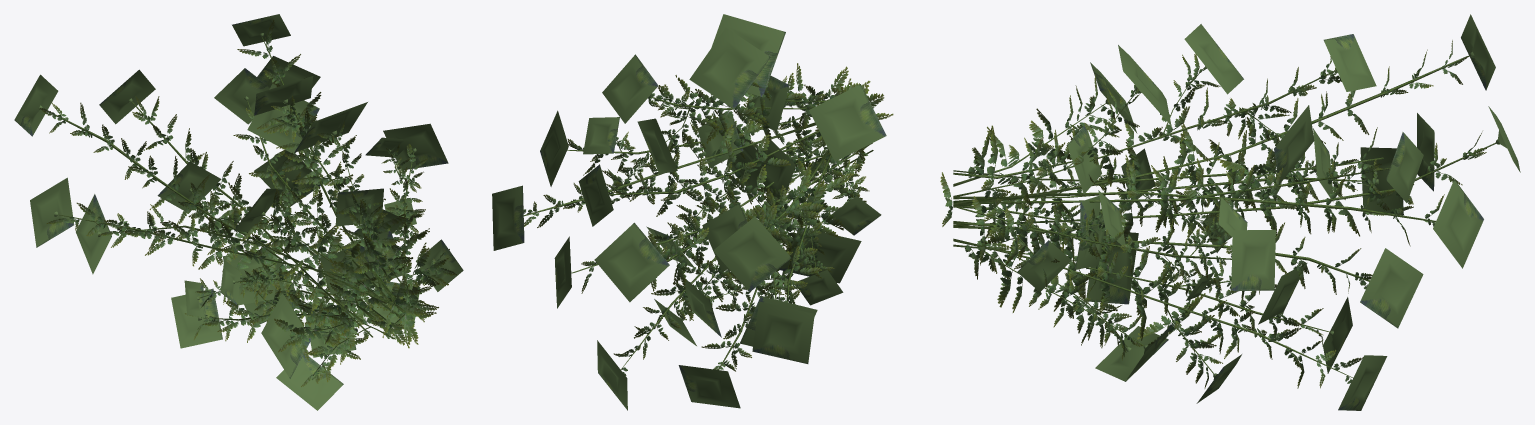
File: plant1.FBX
3 views of the same model, side by side, from view 1: azimuth 30°, elevation 25°; view 2: azimuth 150°, elevation 25°; view 3: azimuth 270°, elevation 25° (orthographic). The views are drawn at different scales.
Parts seen in each view (by area): view 1: plant1_LOD0; view 2: plant1_LOD0; view 3: plant1_LOD0.
Part boxes in pixels (<box>): plant1_LOD0: <box>14,14,463,410</box>; plant1_LOD0: <box>492,14,893,410</box>; plant1_LOD0: <box>940,14,1520,410</box>.
Bounding box in the file's own units: 30.12 × 39.07 × 27.38.
